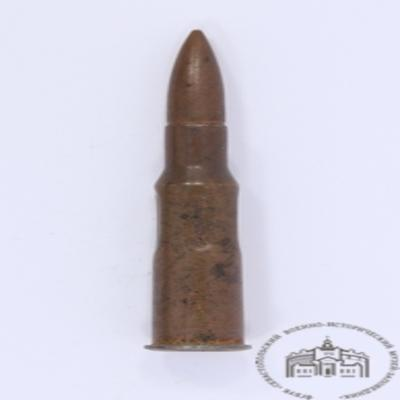weapon: (144, 30, 249, 353)
